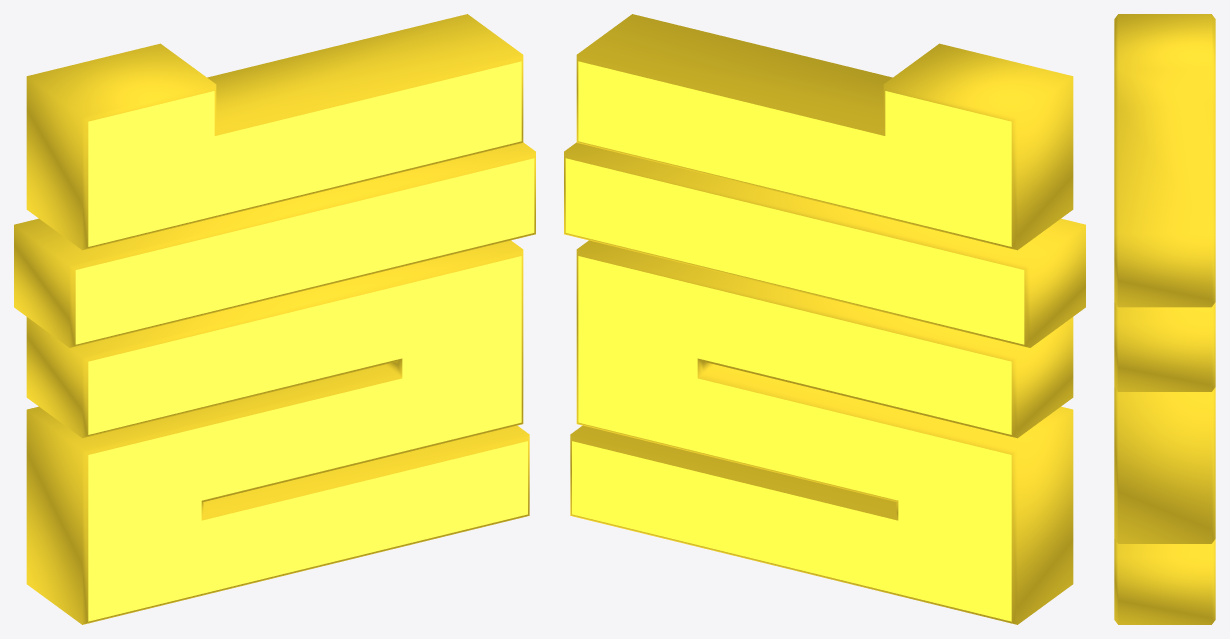
The picture shows the model from 3 angles, left to right: view 1: azimuth 30°, elevation 25°; view 2: azimuth 150°, elevation 25°; view 3: azimuth 270°, elevation 25°; orthographic projection. The views are drawn at different scales.
Visible parts, largest first — view 1: glyph; view 2: glyph; view 3: glyph.
Boxes of the visible parts, x1,y1,x2,y2 form: glyph: (14, 14, 535, 624); glyph: (564, 14, 1085, 624); glyph: (1114, 14, 1215, 624).
Bounding box in the file's own units: 0.0726 × 0.0756 × 0.0162.
